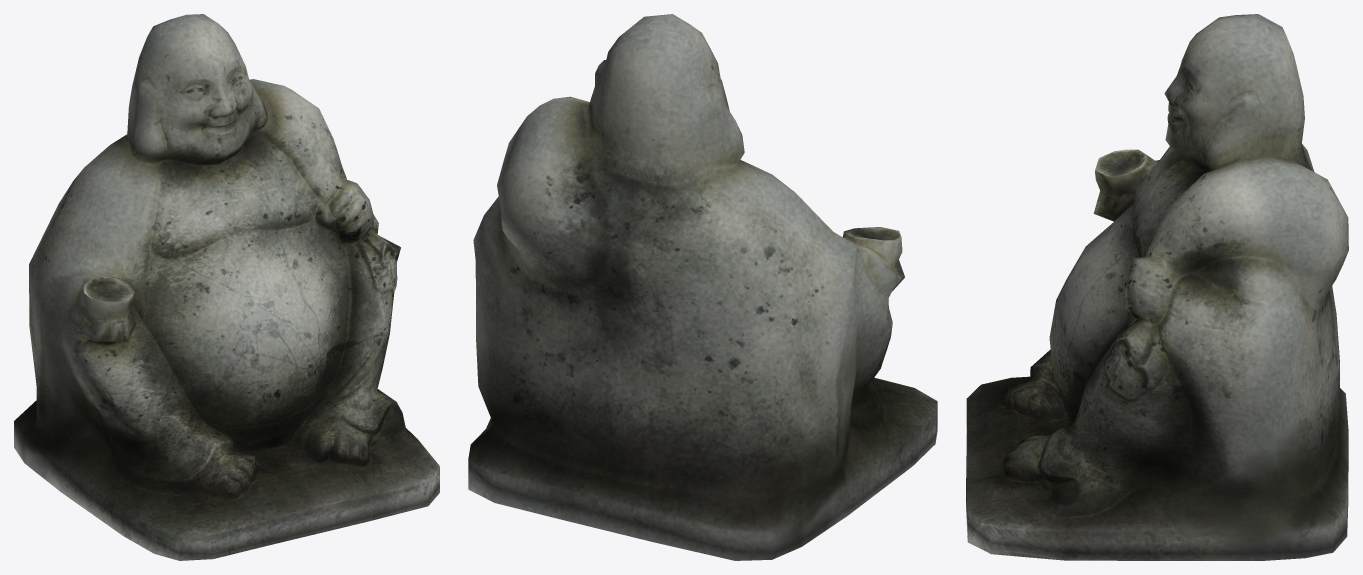
File: statue_buddha.dae
3 views of the same model, side by side, from view 1: azimuth 30°, elevation 25°; view 2: azimuth 150°, elevation 25°; view 3: azimuth 270°, elevation 25° (orthographic). The views are drawn at different scales.
Parts seen in each view (by area): view 1: statue_low; view 2: statue_low; view 3: statue_low.
Boxes of the visible parts, x1,y1,x2,y2 form: statue_low: (14, 14, 439, 560); statue_low: (468, 14, 937, 560); statue_low: (966, 14, 1348, 560).
Bounding box in the file's own units: 17.6 × 21.55 × 16.1.
